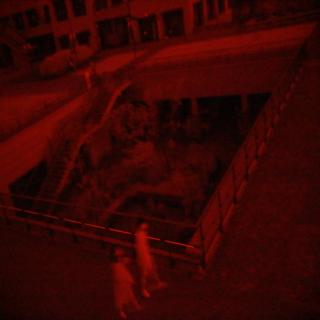person: (103, 237, 145, 320), (130, 217, 171, 299)
